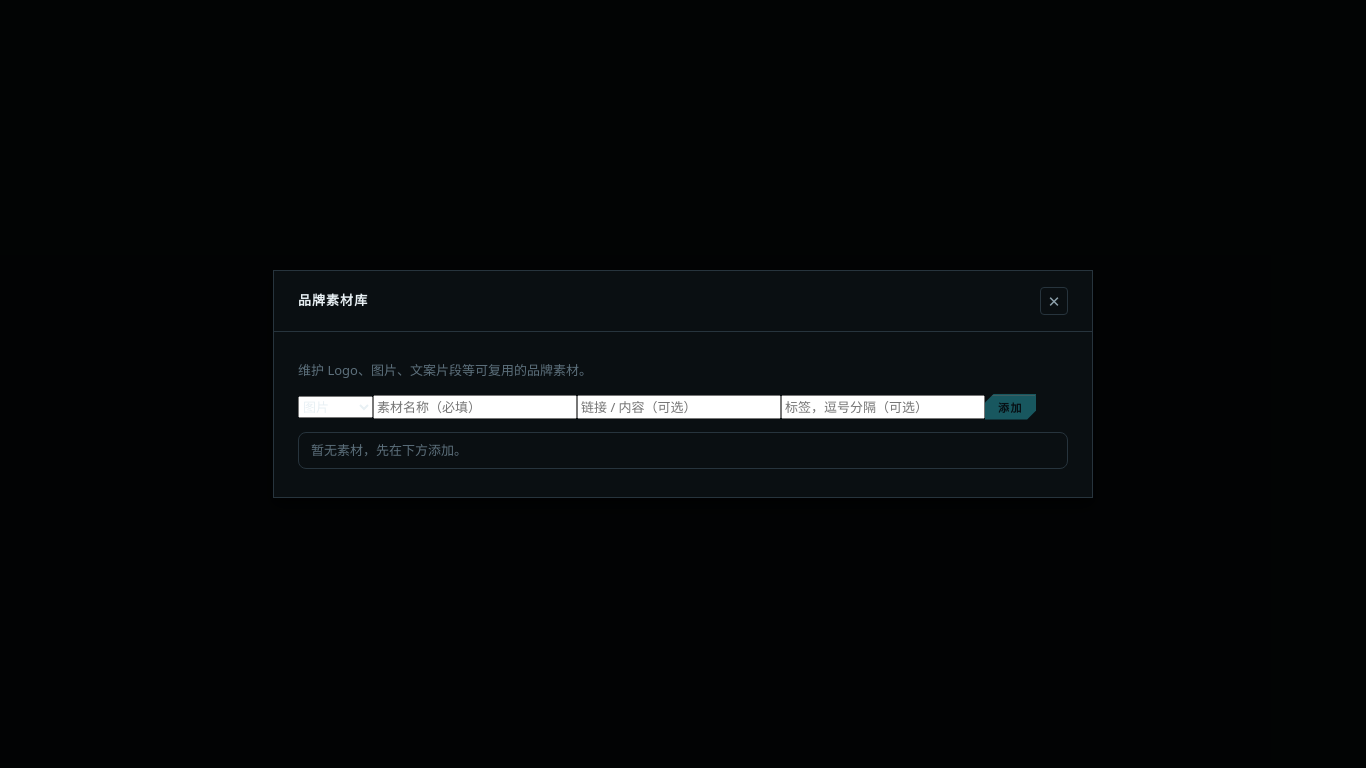
Test: BrandAssets › keeps add disabled until a label is entered
expect the button "添加" is disabled: met, box [985, 394, 1036, 420]
In the field with placeholder "素材名称（必填）": point(475, 406) [373, 394, 577, 418], type "新素材"
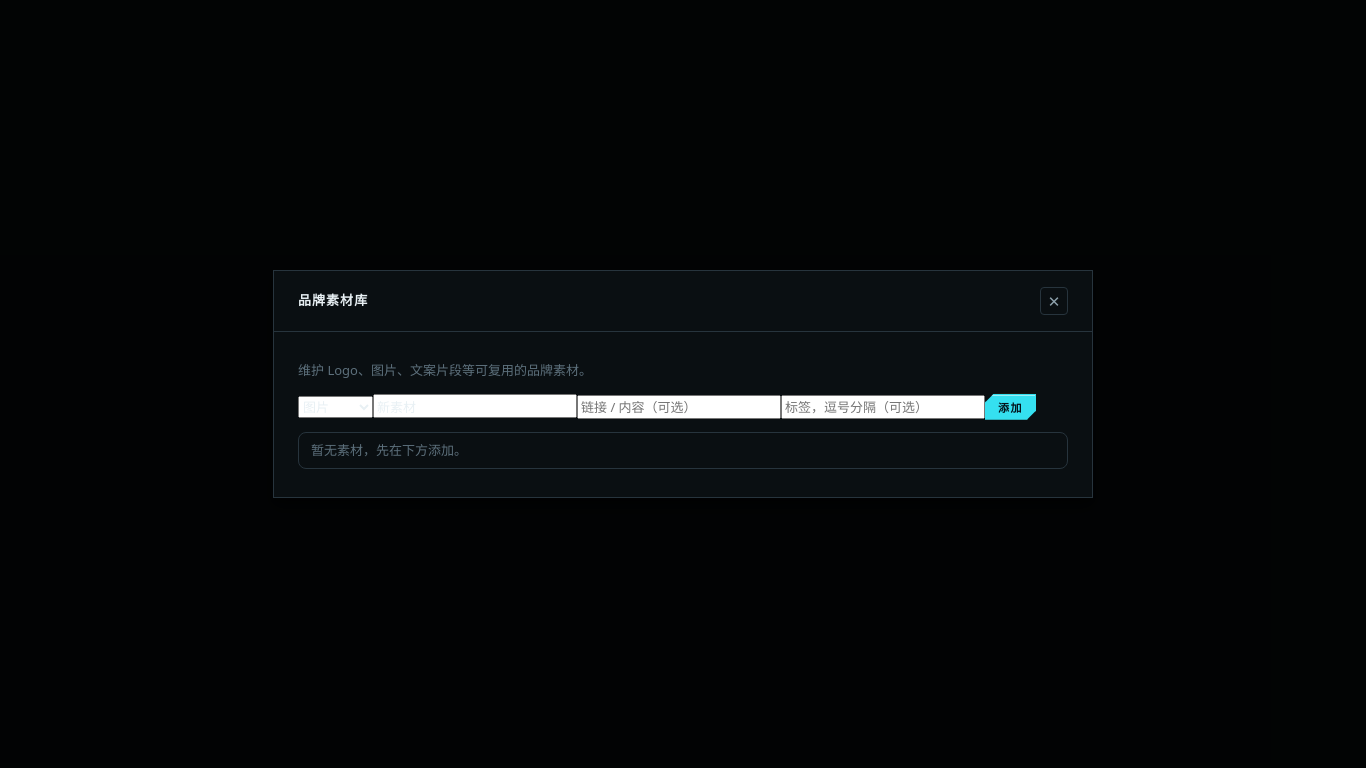
expect the button "添加" is enabled: met, box [985, 394, 1036, 420]
